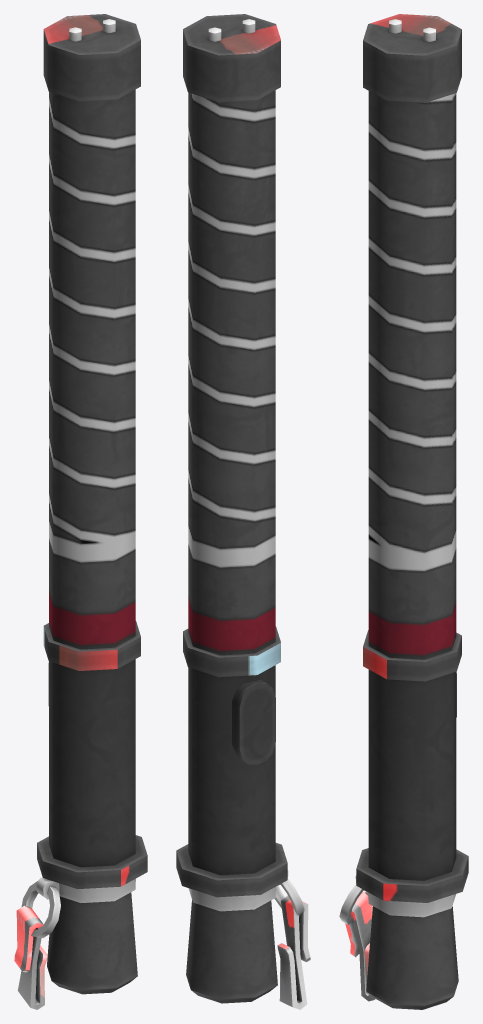
The model's file is MeleeWeaponAgent_ElecStick.fbx.
3 views of the same model, side by side, from view 1: azimuth 30°, elevation 25°; view 2: azimuth 210°, elevation 25°; view 3: azimuth 330°, elevation 25° (orthographic).
Visible parts, largest first — view 1: WPN_ElectricBaton; view 2: WPN_ElectricBaton; view 3: WPN_ElectricBaton.
Boxes of the visible parts, left/top/right/bottom form: WPN_ElectricBaton: left=14, top=14, right=147, bottom=1009; WPN_ElectricBaton: left=176, top=14, right=310, bottom=1009; WPN_ElectricBaton: left=339, top=14, right=468, bottom=1009.
Size of the model in its own units: 0.1515 by 1.22 by 0.1293.
